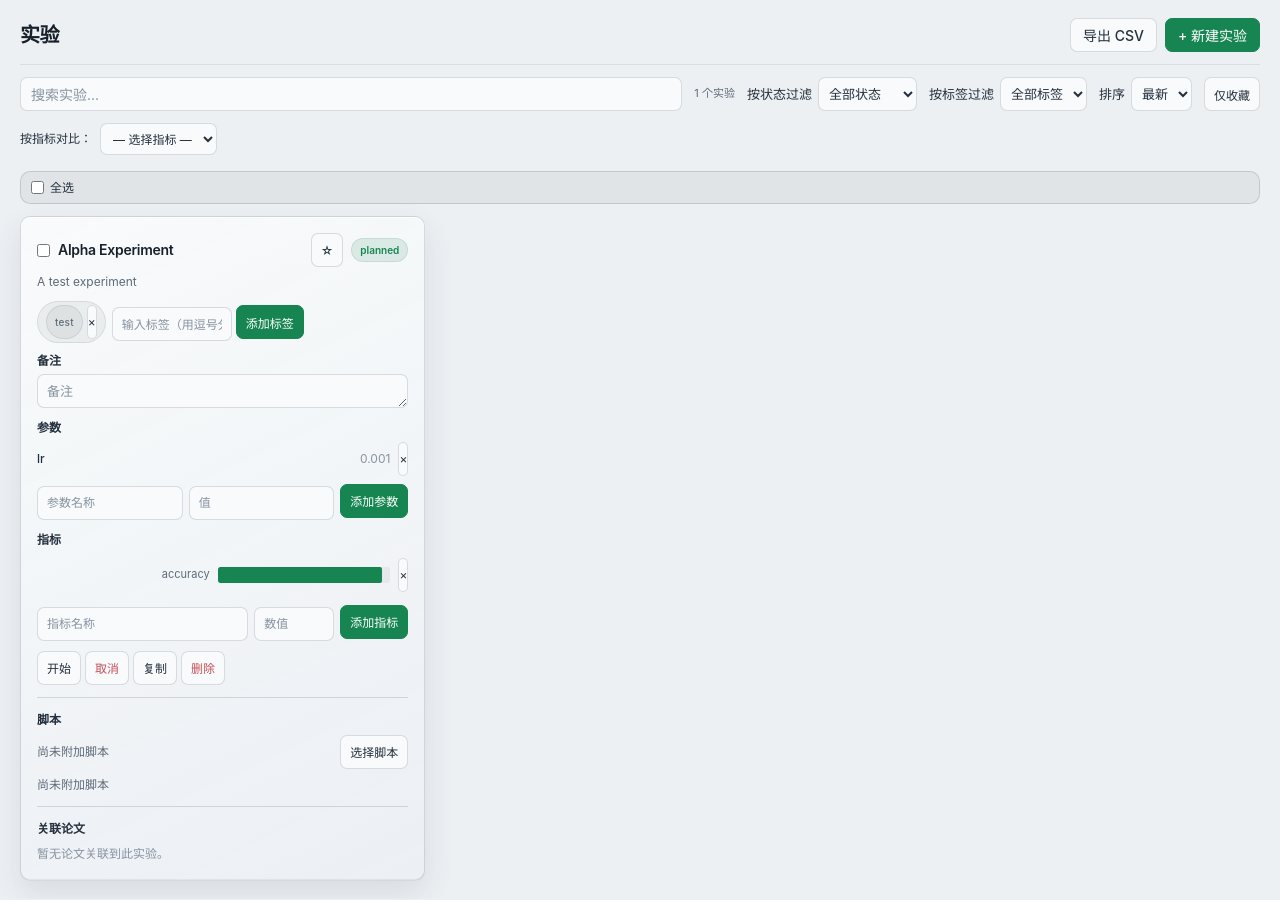
it: ExperimentsPage › should show no-matching-experiments message when filters return nothing
Type "ZZZ" into the field with placeholder "搜索实验..." at (351, 94), box [20,77,682,111]
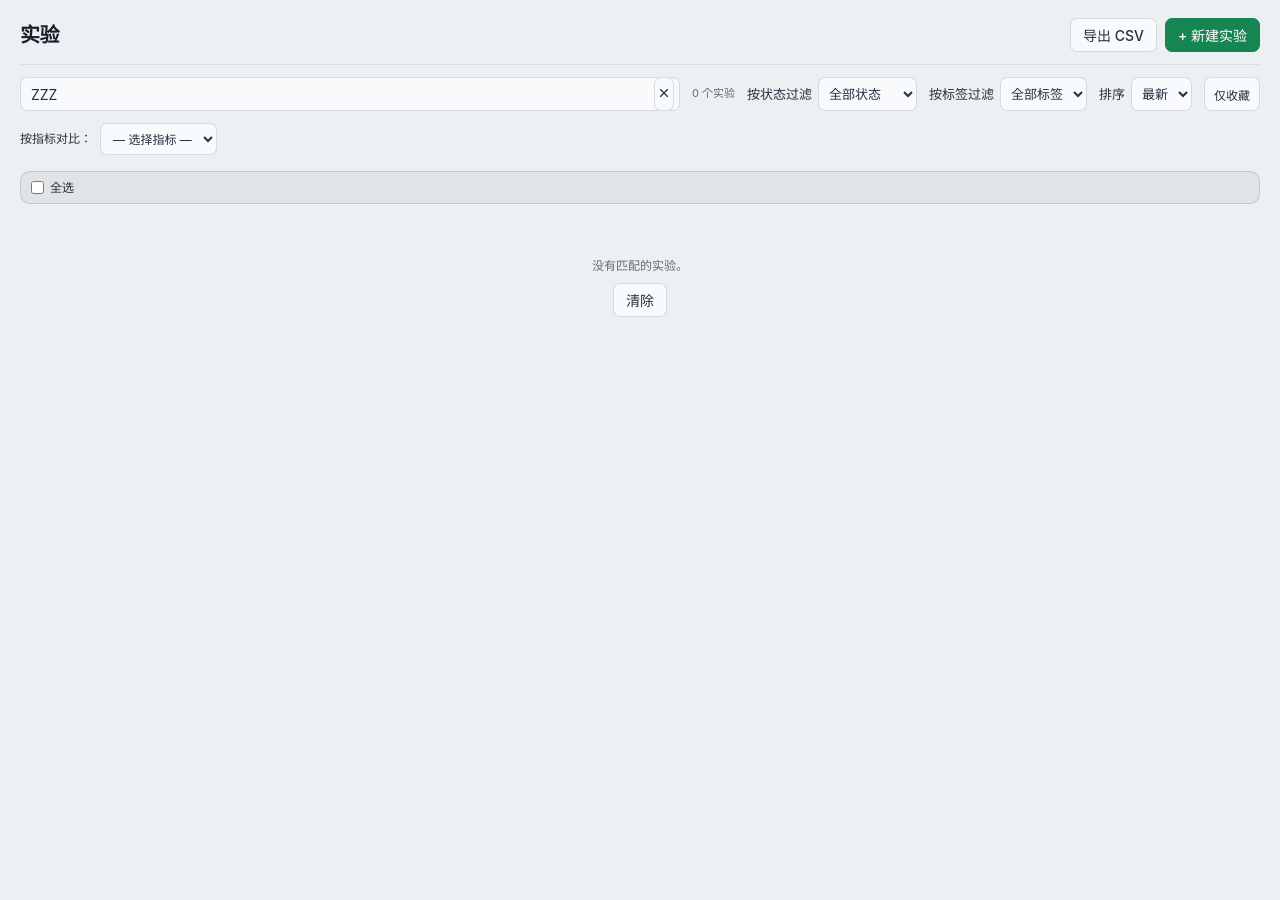
Check: the text "没有匹配的实验。" is shown, box [592,258,688,273]
